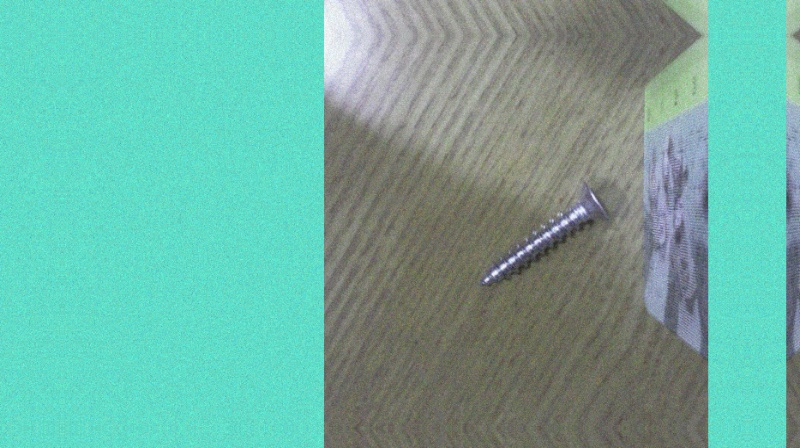S001: (473, 177, 618, 291)
